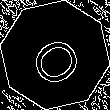O_NE: (22, 23, 88, 87)
